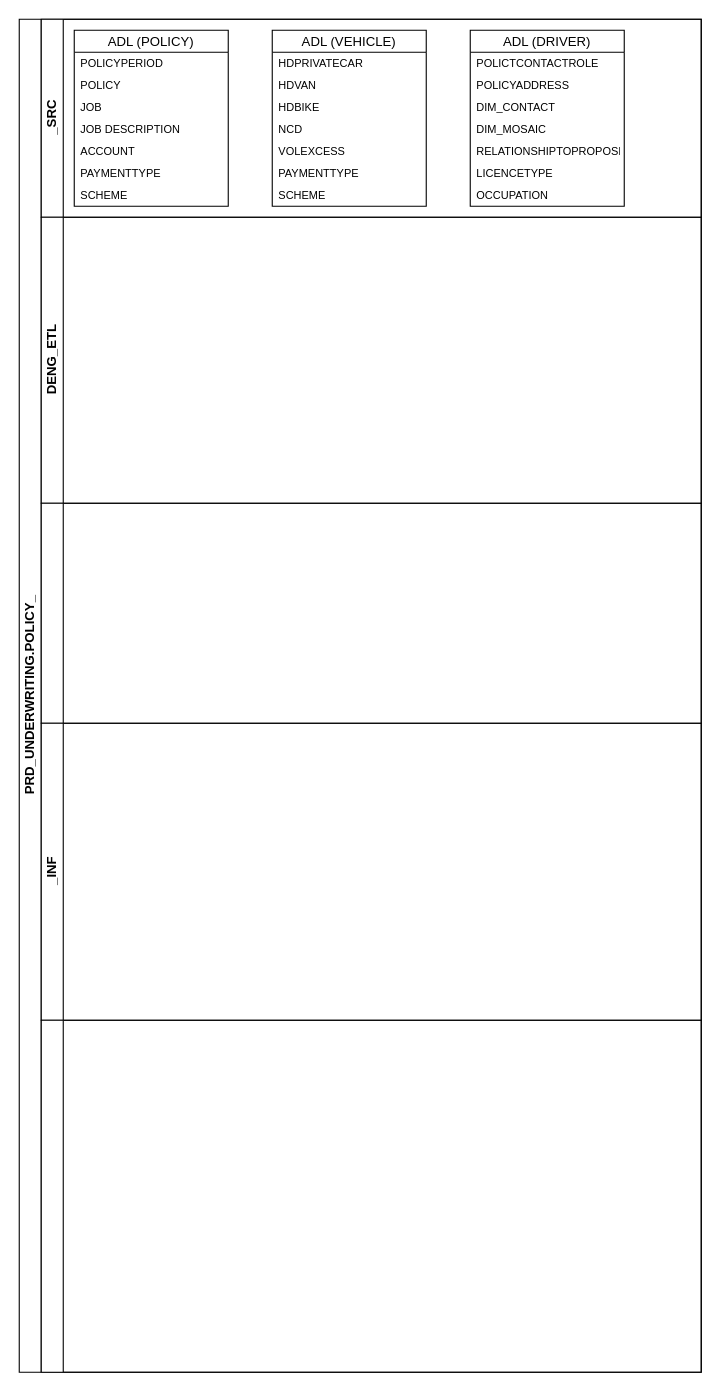
This 721x1390 diagram has some shape labels left out. The shapes that lost their labels are listed below. From the top down, each one's centre as x and y in pixels, then its label:
pixel 370 612: _DATA
pixel 370 1195: _PUB
